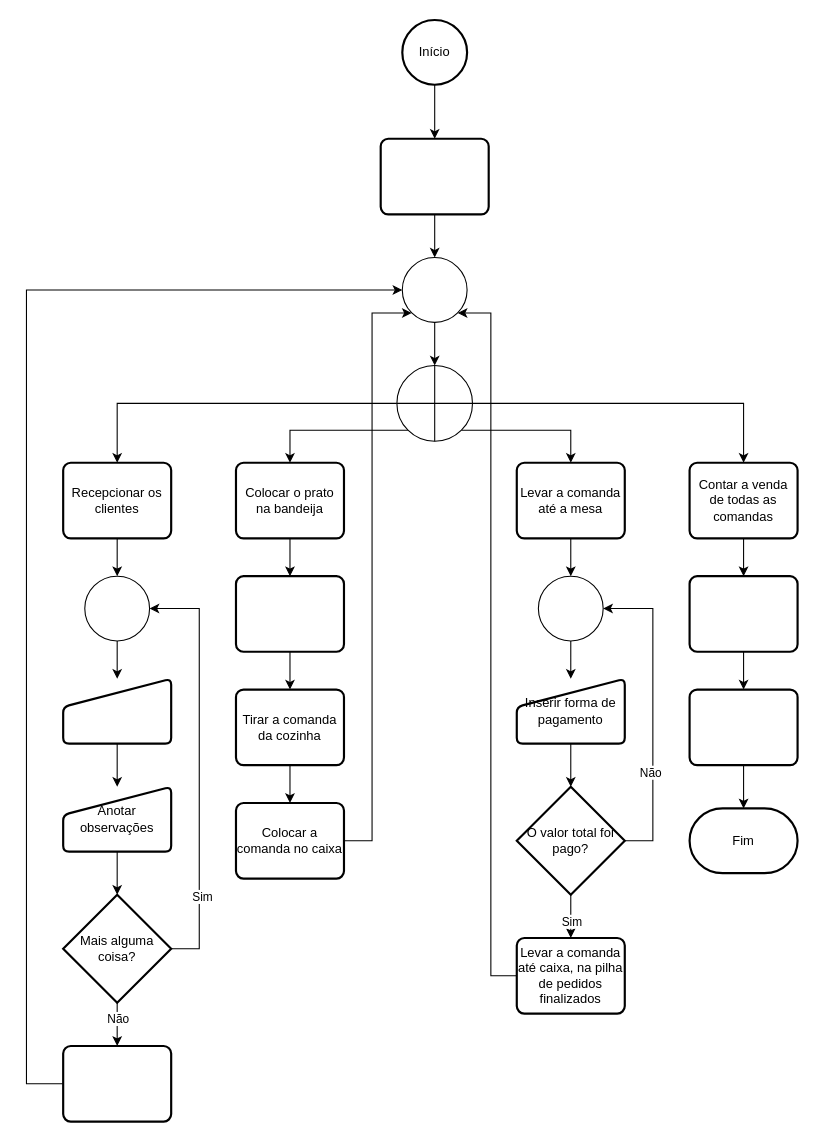
Some shapes in this 818 by 1140 pixel diagram are drawn without their labels. Each missing label, with the centre of its shape:
"Anotar item" belongs at [117,710].
"Anotar o total no caderno" belongs at [743,613].
"Desligar as maquininhas e guardar o dinnheiro" belongs at [743,727].
"Levar a comanda até a cozinha" belongs at [117,1083].
"Preparar comanda e caneta" belongs at [434,176].
"Servir o cliente na mesa" belongs at [289,613].
